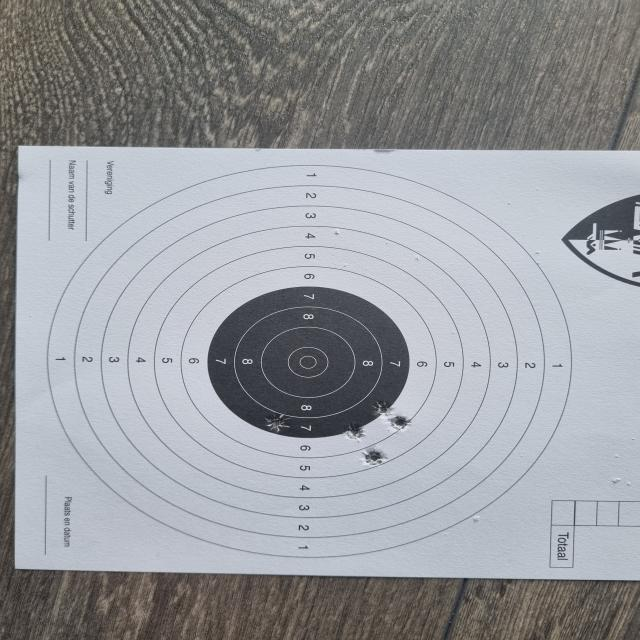5: (360, 445, 386, 470)
6: (389, 412, 412, 432)
7: (338, 422, 367, 442), (264, 414, 291, 432), (372, 400, 394, 419)
Target: (42, 162, 573, 563)
black_contour: (212, 289, 409, 436)
